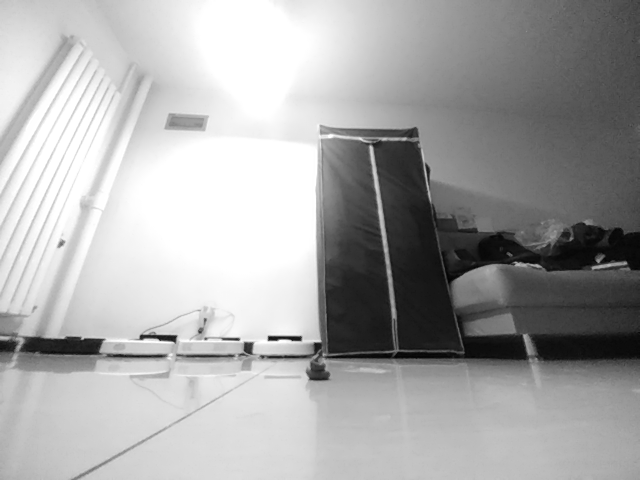pet feces: (306, 346, 332, 380)
